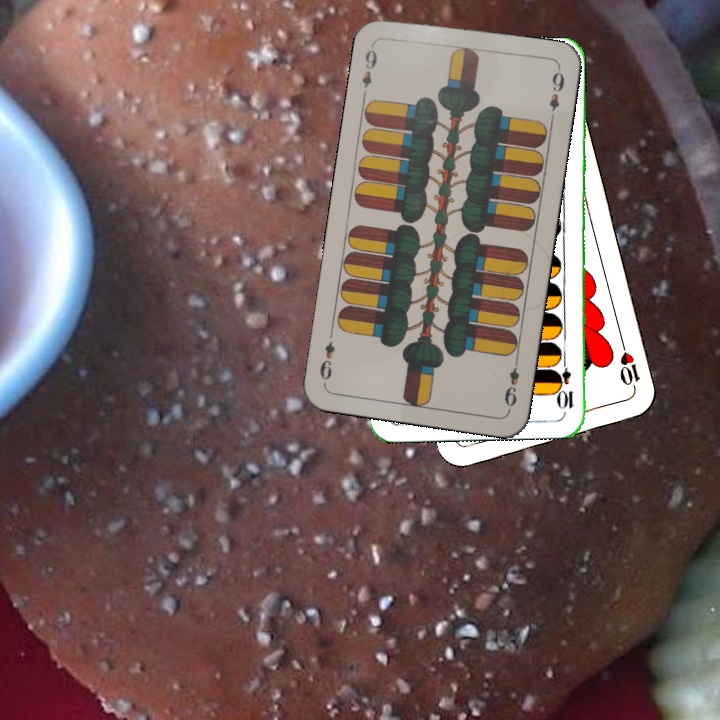E10: (557, 353, 576, 412)
E9: (500, 353, 523, 409), (358, 39, 380, 97)
H10: (616, 337, 643, 395)
